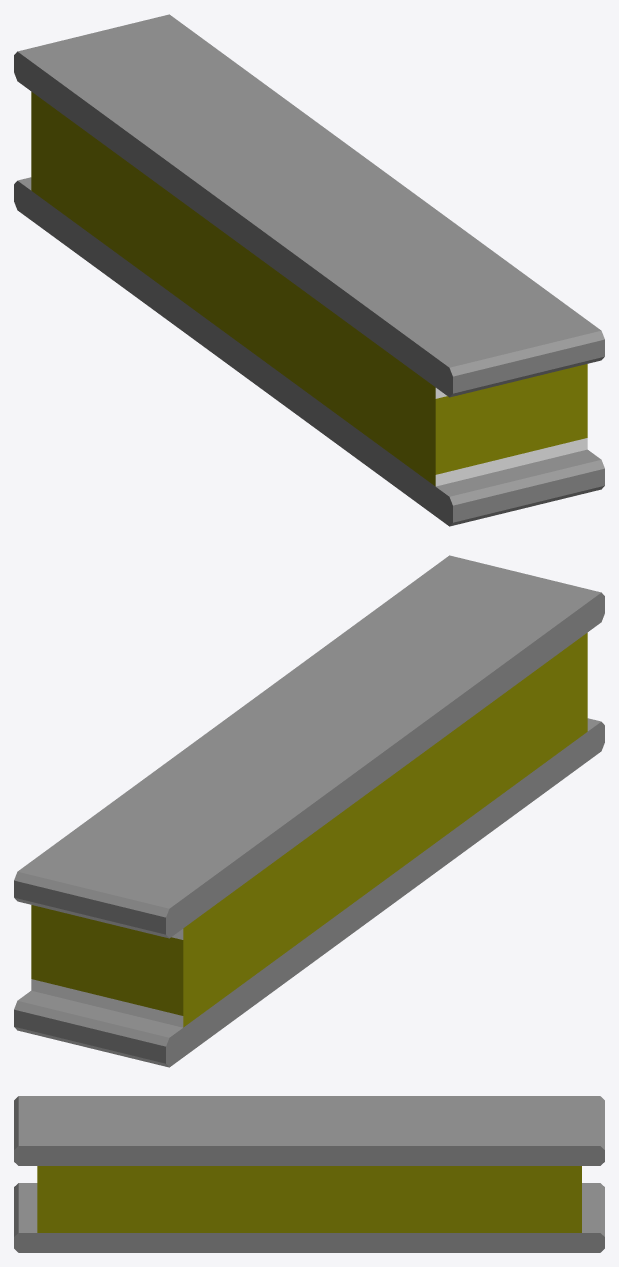
Rendered from Mesh_Levelblock_Cube2_Straight.FBX.
3 views of the same model, one above another, from view 1: azimuth 30°, elevation 25°; view 2: azimuth 150°, elevation 25°; view 3: azimuth 270°, elevation 25° (orthographic). The views are drawn at different scales.
Parts seen in each view (by area): view 1: Mesh_BlockStraight2; view 2: Mesh_BlockStraight2; view 3: Mesh_BlockStraight2.
Part boxes in pixels (x1,y1,x2,y2): Mesh_BlockStraight2: (14,14,604,526); Mesh_BlockStraight2: (14,555,604,1067); Mesh_BlockStraight2: (14,1096,604,1252).
Size of the model in its own units: 2 by 2 by 10.
